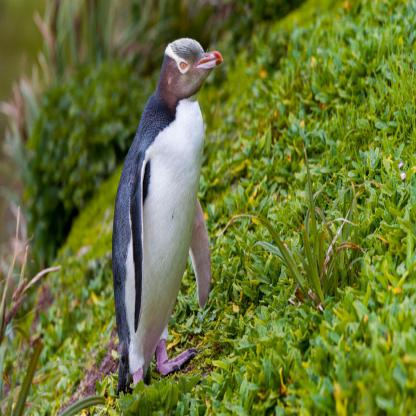Penguin: (104, 26, 235, 404)
